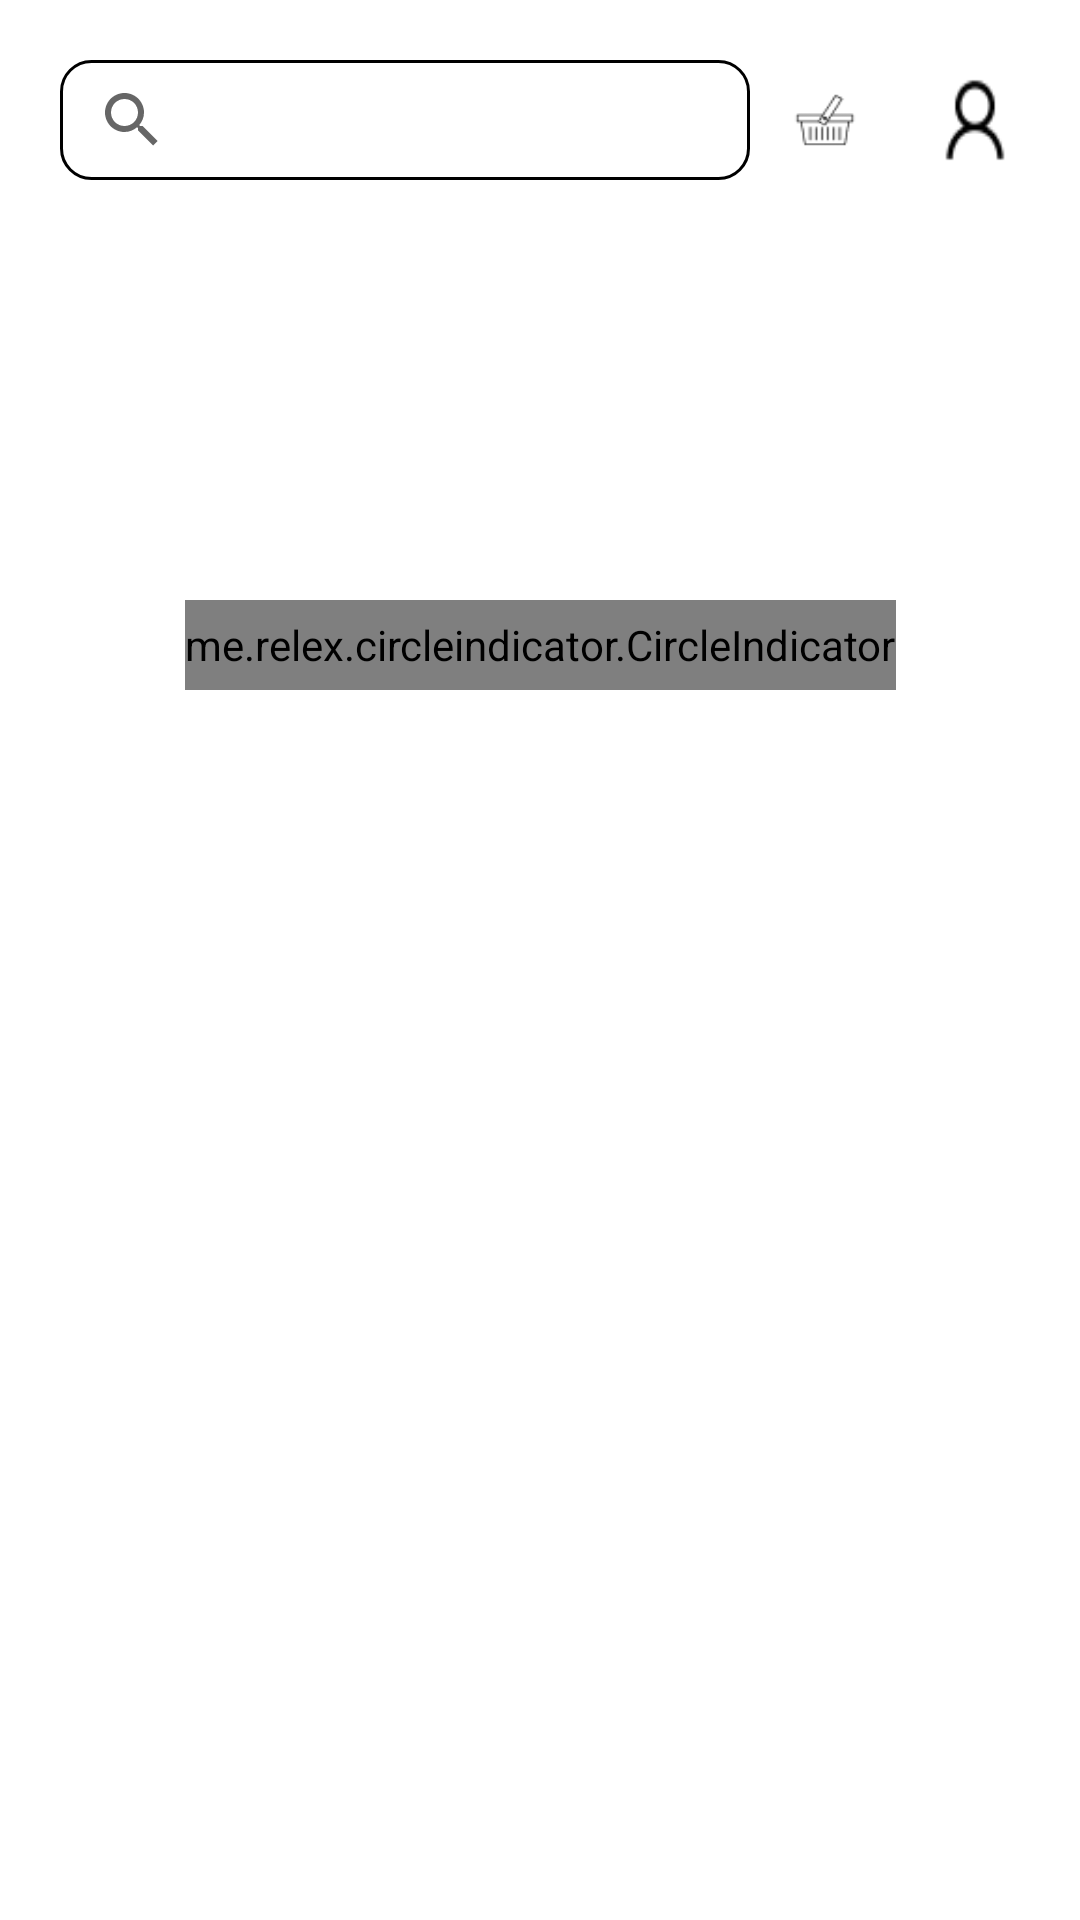

Screen size 1080 x 1920. Icon name, then its center in pixels as (x=x, y=y):
cart: (x=825, y=120)
user: (x=975, y=120)
